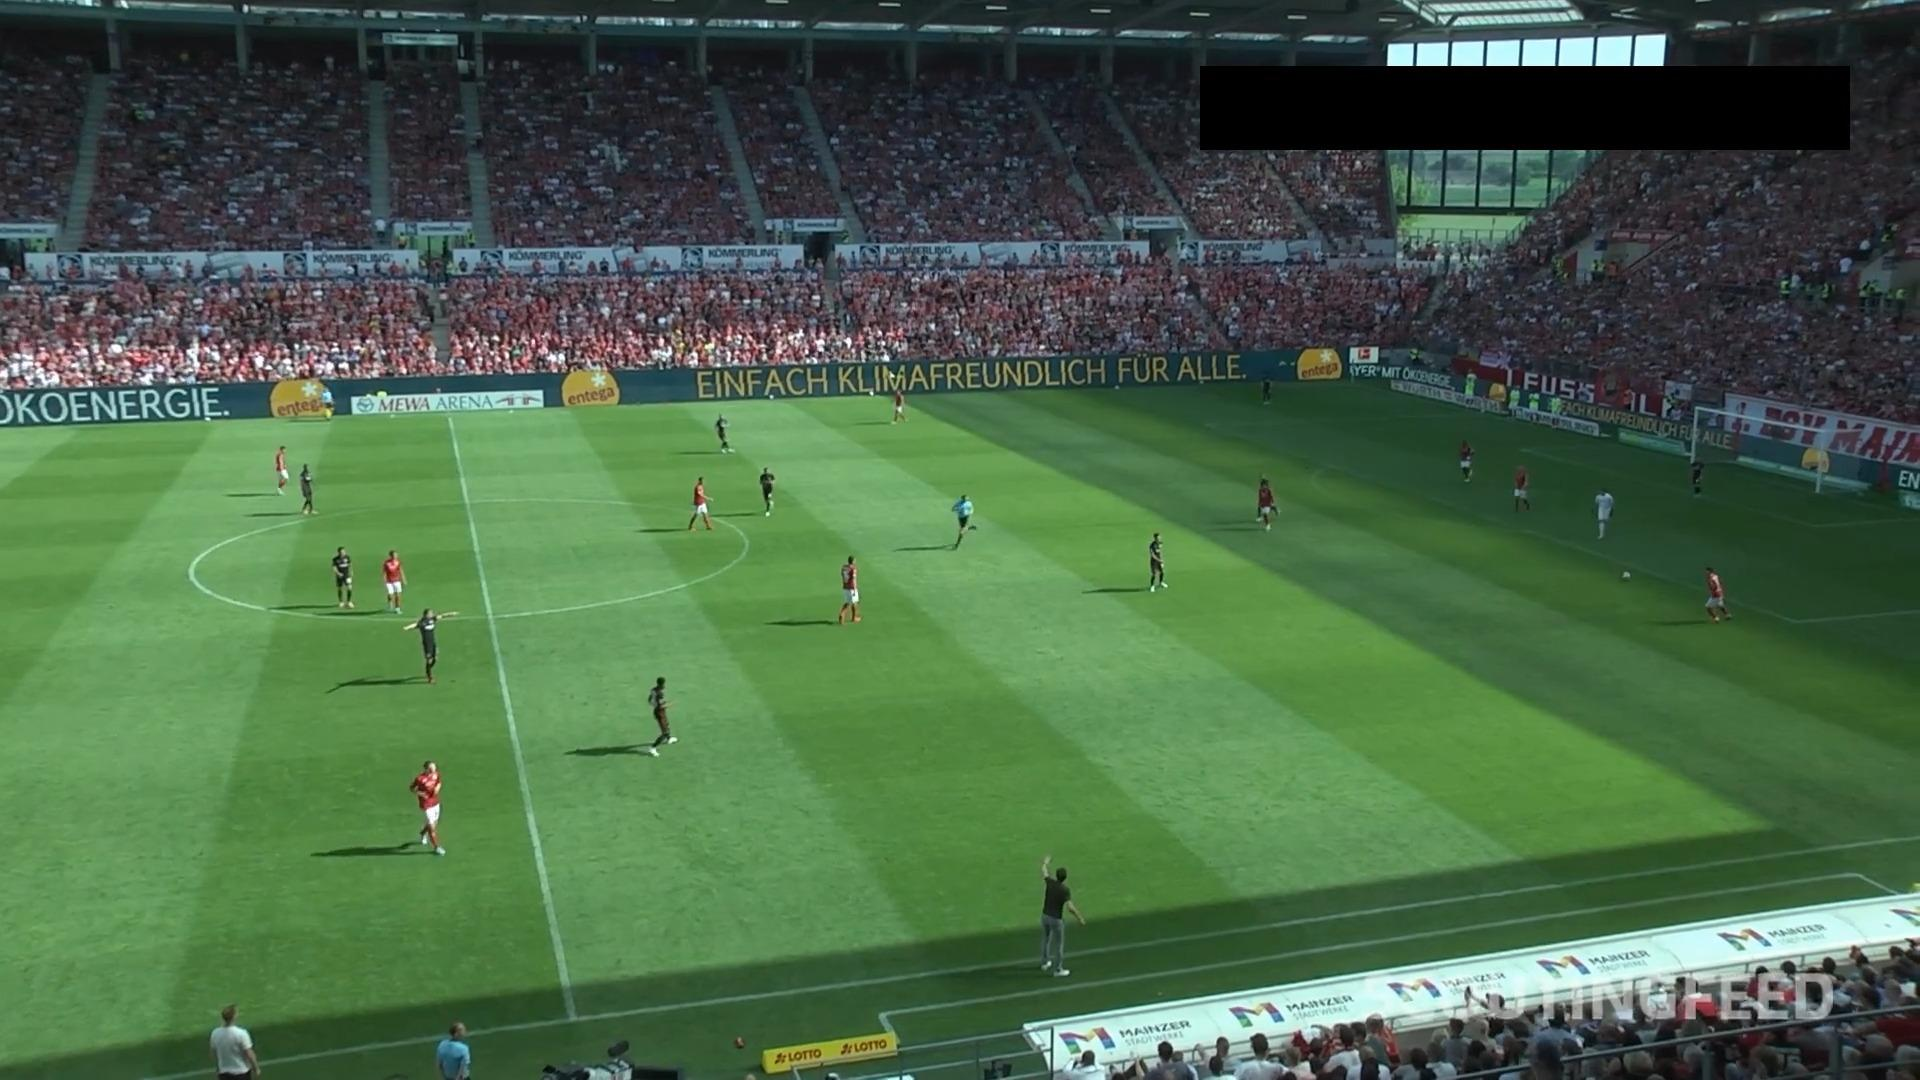ball: (1622, 571, 1631, 580)
